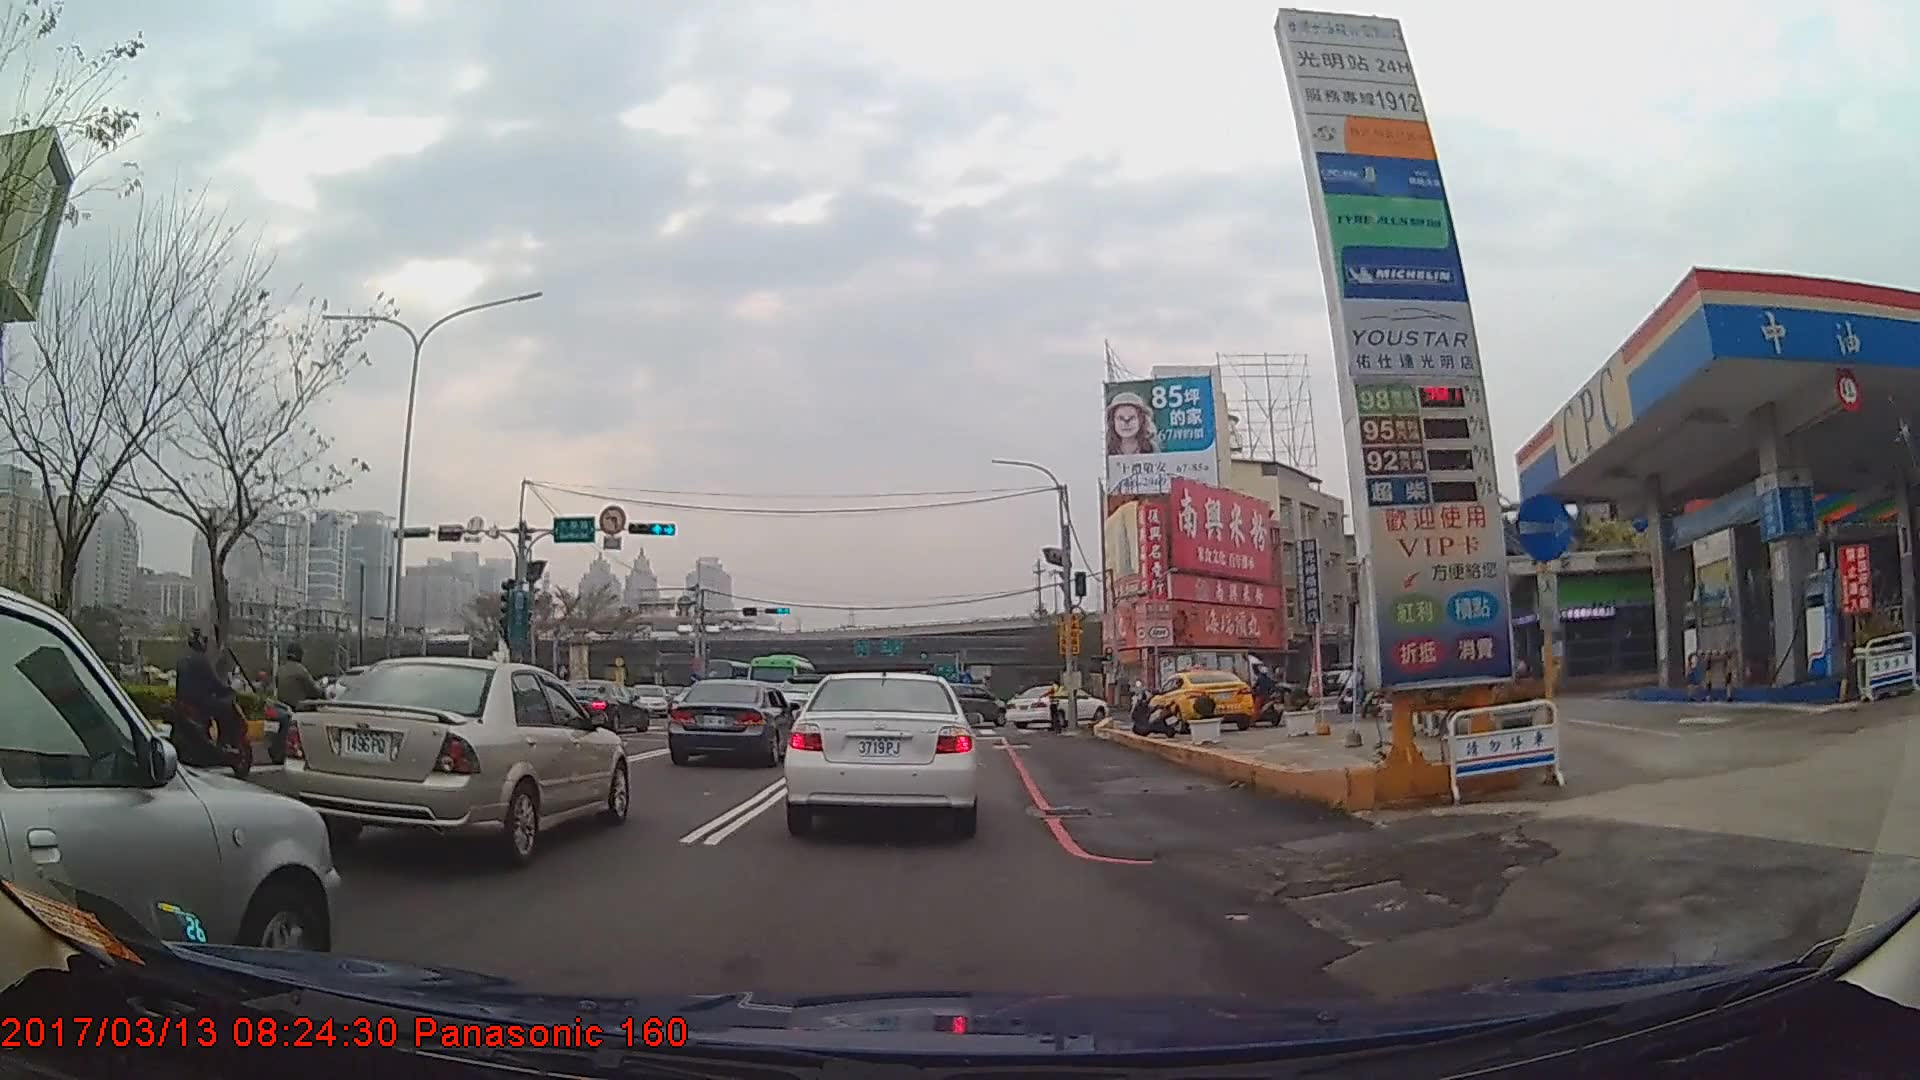pedestrian: (1035, 677, 1062, 733)
rider: (159, 626, 250, 780), (266, 642, 340, 764), (1340, 656, 1384, 718), (1247, 666, 1284, 726)
vehicle: (0, 588, 339, 988), (285, 655, 630, 866), (785, 665, 980, 837), (669, 678, 799, 767), (1154, 647, 1270, 713), (1151, 668, 1260, 731), (552, 678, 650, 732), (1005, 682, 1109, 729), (746, 652, 820, 710), (931, 681, 1009, 727)
